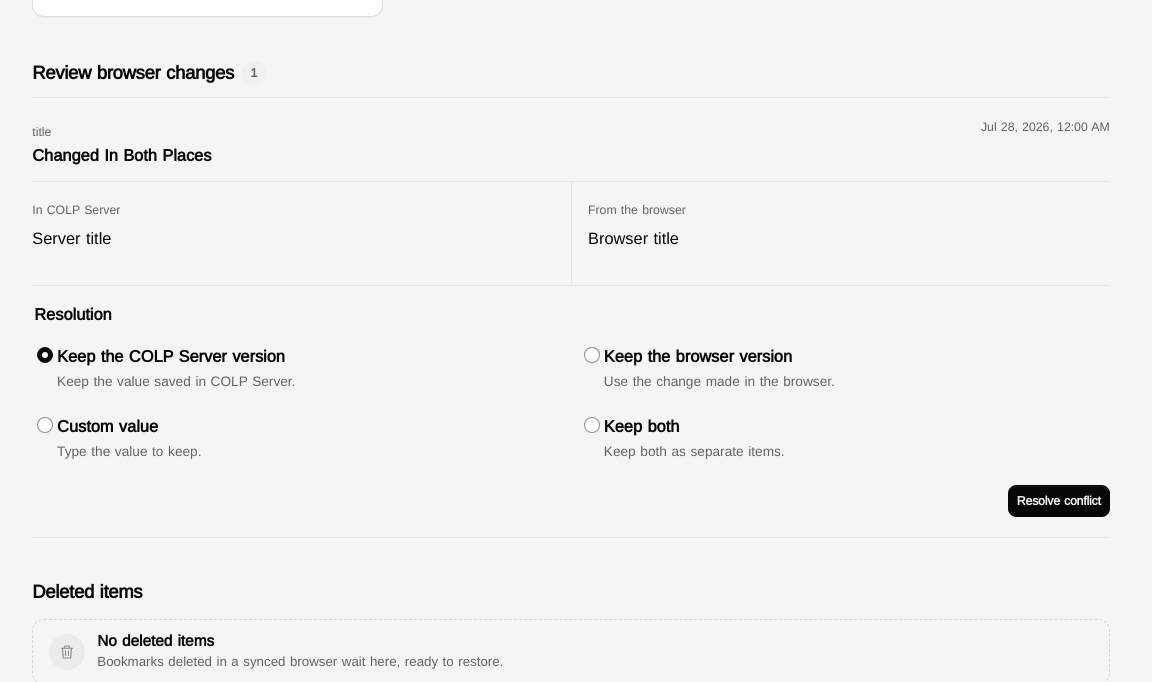
Test: Sync Center authoritative workflow › replays an unknown outcome with the same frozen intent and revision
(page scrolled)
Click the radio button labelled "Keep the browser version Use the change made in the browser." at (592, 355), box [584, 347, 600, 363]
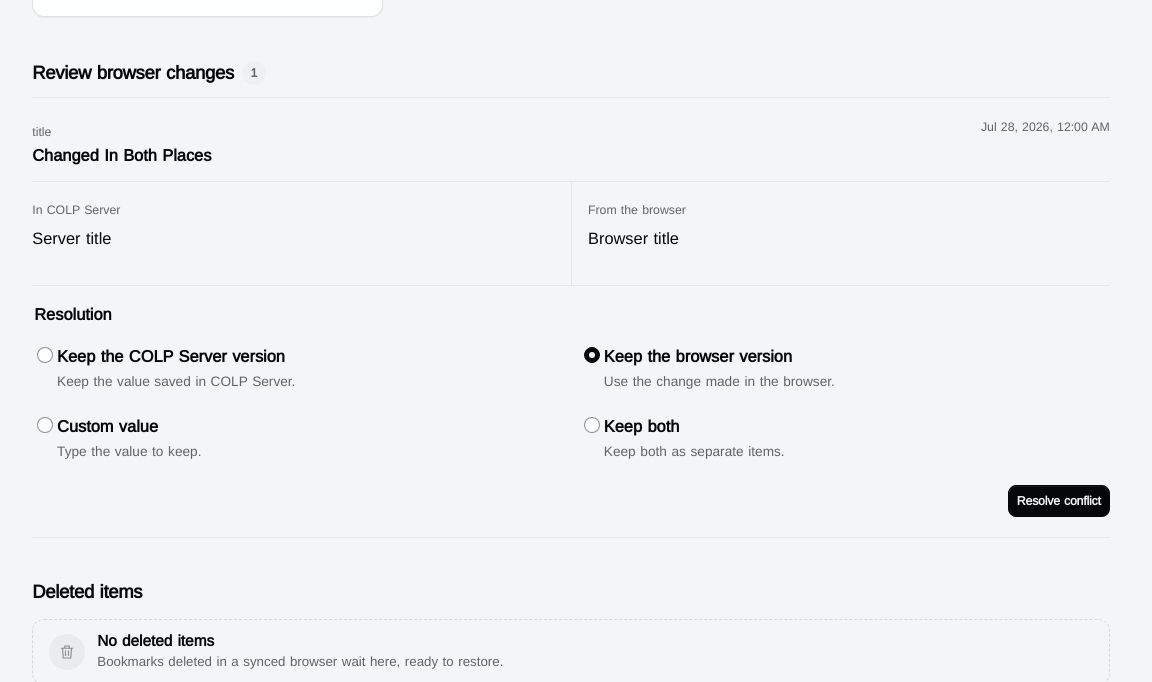
Click the button "Resolve conflict" at (1059, 501), box [1008, 485, 1110, 517]
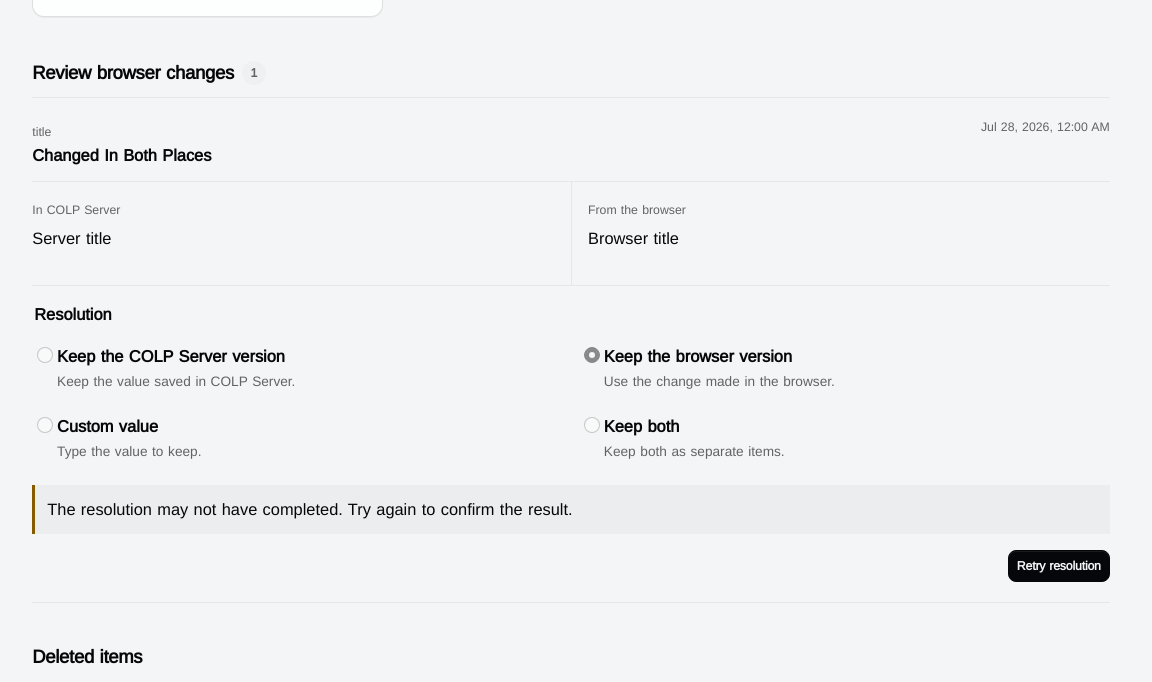
Expected: the message "The resolution may not have completed. Try again to confirm the result." is shown, [32, 485, 1110, 534]
Expected: the element that starts with "Resolution" is disabled, [34, 304, 835, 460]
Click the button "Retry resolution" at (1059, 566), box [1008, 550, 1110, 582]
(page scrolled)
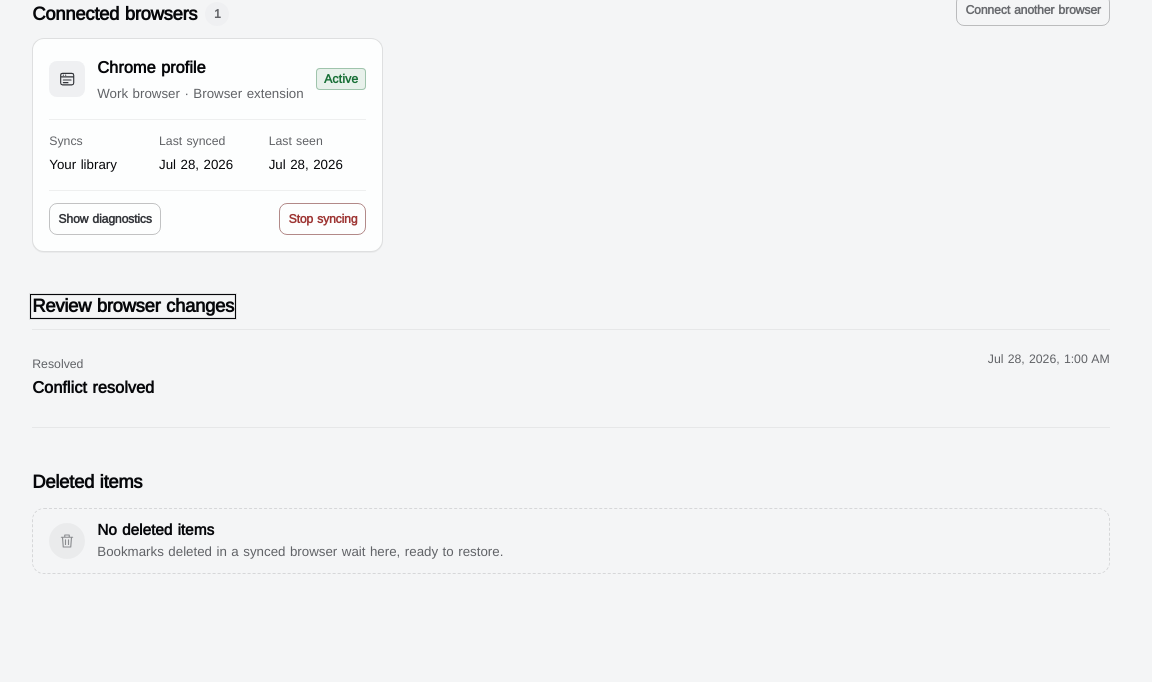
Expected: the text "Server title" is gone
